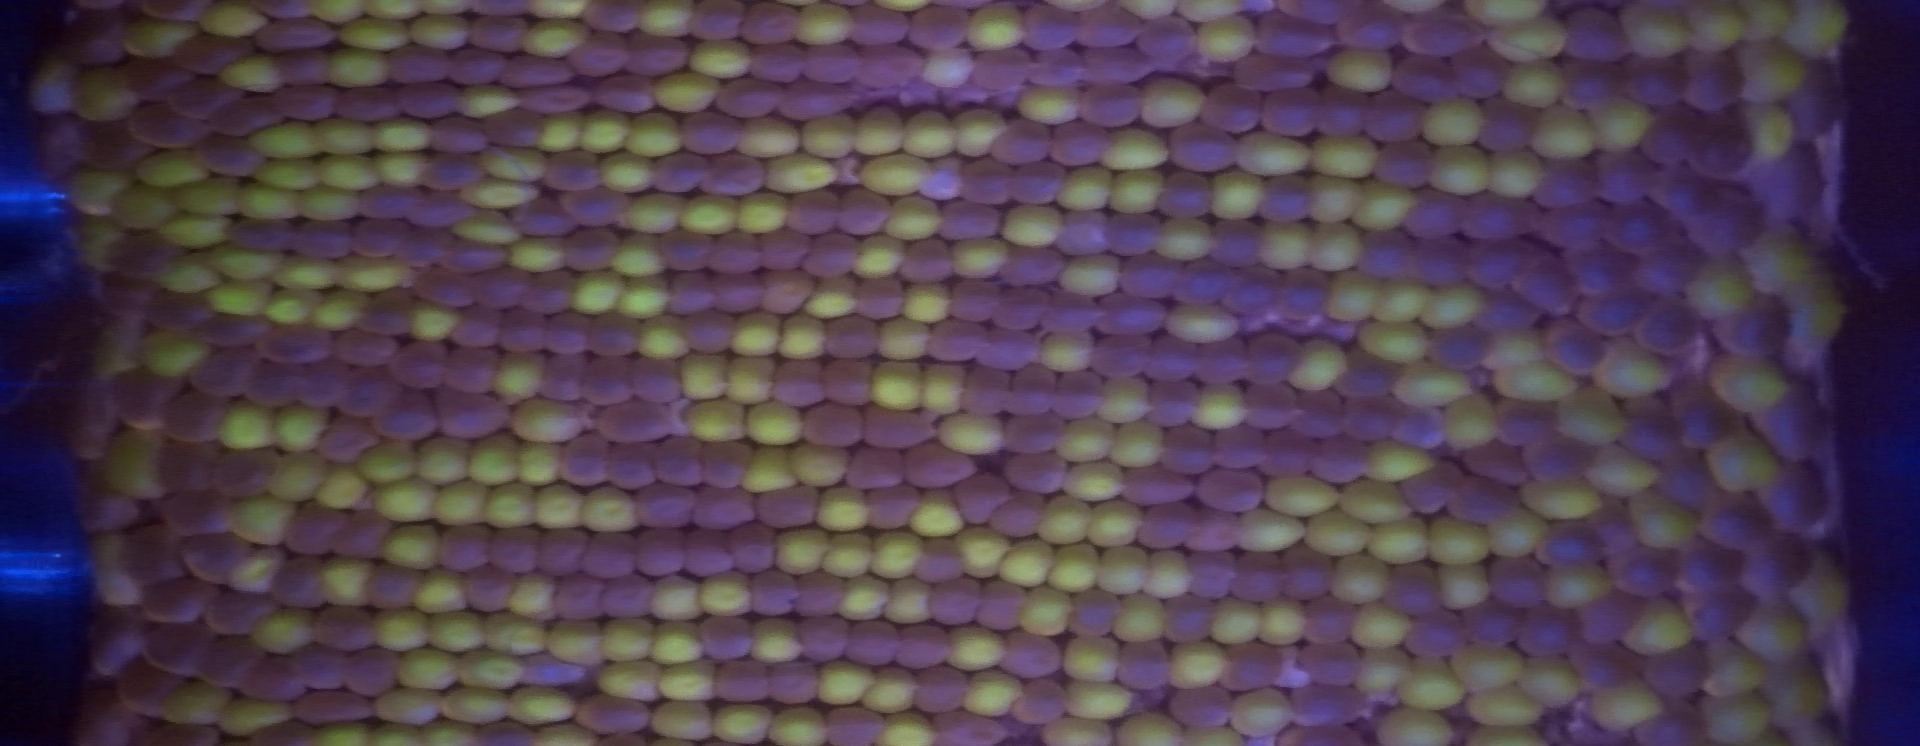fluorescent: (1782, 265, 1840, 364), (99, 428, 167, 500), (1704, 430, 1779, 492), (1760, 660, 1828, 726), (1709, 360, 1795, 412), (1594, 339, 1670, 394), (1736, 33, 1801, 97), (1704, 639, 1771, 701), (1587, 680, 1663, 733), (1513, 478, 1607, 521), (1753, 223, 1811, 292), (138, 330, 217, 380), (65, 65, 135, 121), (1736, 597, 1800, 658), (1589, 96, 1654, 156), (1493, 358, 1573, 404), (62, 164, 135, 216), (1588, 446, 1657, 500), (1686, 263, 1749, 322), (225, 490, 291, 545), (1682, 1, 1750, 55), (1259, 472, 1341, 516), (1626, 603, 1691, 658), (1397, 360, 1468, 410), (1801, 550, 1848, 626), (1633, 492, 1693, 551), (1400, 660, 1467, 712), (1236, 501, 1305, 550), (1455, 647, 1529, 692), (369, 474, 436, 524), (1238, 130, 1310, 176), (1700, 695, 1772, 741), (1489, 20, 1569, 61), (1558, 388, 1616, 445), (1138, 78, 1209, 125), (1499, 55, 1561, 108), (94, 534, 136, 612), (1308, 131, 1378, 178), (1291, 334, 1347, 392), (1521, 652, 1580, 707), (816, 654, 876, 708), (1427, 148, 1495, 195), (1464, 687, 1543, 728), (1326, 47, 1396, 92), (1425, 98, 1488, 148), (1622, 7, 1685, 58), (962, 668, 1026, 717), (1325, 554, 1389, 603), (1014, 82, 1082, 127), (1526, 110, 1594, 156), (269, 450, 327, 503), (1742, 98, 1796, 156), (1356, 320, 1428, 363), (516, 399, 585, 443), (1365, 440, 1435, 484), (249, 118, 320, 160), (764, 149, 835, 192), (480, 612, 549, 657), (1164, 642, 1229, 688), (593, 661, 665, 703), (1164, 303, 1240, 342), (121, 20, 195, 60), (733, 116, 801, 160), (1018, 584, 1073, 638), (1229, 688, 1289, 737), (1790, 2, 1850, 51), (547, 616, 609, 664), (658, 70, 720, 116), (1445, 392, 1499, 446), (1195, 381, 1251, 432), (458, 646, 525, 688), (1053, 252, 1120, 295), (326, 44, 389, 89), (708, 699, 771, 745), (209, 247, 285, 285), (211, 401, 269, 450), (414, 439, 473, 488), (948, 624, 1007, 673), (902, 110, 961, 159), (860, 153, 931, 194), (969, 2, 1029, 50), (1067, 680, 1135, 722), (791, 443, 852, 490), (1036, 492, 1090, 545), (869, 358, 924, 409), (1325, 269, 1380, 321), (1488, 148, 1543, 200), (580, 483, 638, 532), (468, 437, 525, 486), (255, 606, 312, 655), (1304, 220, 1362, 269), (1373, 709, 1449, 746), (162, 680, 227, 723), (1000, 206, 1065, 249), (1106, 124, 1167, 169), (1370, 521, 1431, 566), (507, 684, 576, 724), (1307, 170, 1360, 222), (749, 616, 804, 666), (1256, 222, 1311, 272), (742, 442, 798, 491), (1359, 181, 1416, 230), (1064, 632, 1122, 680), (339, 255, 409, 294), (273, 256, 343, 295), (697, 570, 756, 616), (1487, 512, 1545, 559), (880, 197, 944, 240), (609, 230, 669, 276), (684, 39, 749, 81), (911, 488, 966, 537), (796, 4, 857, 48), (1430, 514, 1485, 563), (1305, 514, 1374, 554), (1201, 16, 1259, 62), (940, 412, 1003, 454), (441, 682, 507, 723), (1419, 281, 1478, 326), (1351, 606, 1409, 652), (136, 149, 206, 187), (533, 481, 584, 533), (1547, 560, 1607, 604), (316, 556, 369, 606), (478, 145, 545, 184), (877, 315, 931, 364), (819, 533, 874, 581), (1101, 541, 1149, 597), (683, 401, 744, 443), (1152, 216, 1213, 258), (432, 480, 489, 527), (816, 490, 872, 537), (380, 528, 442, 570), (746, 397, 804, 441), (765, 702, 824, 746), (775, 522, 825, 573), (1113, 595, 1164, 646), (1256, 597, 1309, 646), (115, 190, 179, 230), (1056, 167, 1116, 209), (623, 111, 678, 158), (397, 648, 458, 690), (238, 183, 302, 222), (567, 271, 624, 315), (1037, 331, 1095, 375), (853, 107, 905, 156), (959, 528, 1010, 577), (1213, 169, 1262, 220), (648, 575, 700, 622), (271, 408, 327, 452), (370, 609, 426, 653), (650, 698, 711, 739), (317, 116, 375, 159), (681, 350, 730, 401), (733, 310, 782, 360), (362, 441, 415, 488), (634, 316, 687, 363), (1113, 420, 1166, 467), (407, 13, 469, 53), (801, 114, 860, 156), (1117, 710, 1185, 746), (456, 211, 522, 247), (1060, 418, 1116, 462), (680, 192, 740, 233), (459, 80, 523, 118), (429, 612, 485, 655), (317, 461, 366, 510), (1063, 463, 1124, 502), (1002, 539, 1052, 587), (1142, 550, 1193, 598), (658, 664, 715, 706), (373, 687, 443, 722), (852, 235, 905, 281), (309, 292, 367, 332), (735, 191, 789, 235), (371, 118, 433, 156), (834, 576, 889, 619), (338, 15, 407, 49), (200, 5, 266, 40), (803, 277, 860, 318), (724, 356, 773, 404), (958, 110, 1005, 159), (415, 570, 467, 615), (862, 670, 913, 715), (922, 359, 962, 416), (463, 179, 539, 209), (224, 548, 277, 592), (781, 316, 834, 360), (211, 279, 276, 315), (222, 701, 287, 736), (524, 20, 587, 56), (493, 352, 540, 401), (1049, 545, 1100, 590), (602, 617, 653, 663), (1376, 278, 1427, 323), (299, 183, 358, 220), (253, 158, 321, 191), (613, 278, 669, 318), (580, 109, 628, 156), (509, 570, 555, 619), (1356, 646, 1404, 691), (1740, 2, 1790, 47), (628, 194, 684, 233), (220, 56, 280, 93), (599, 151, 651, 192), (951, 236, 1004, 278), (1438, 567, 1490, 609), (162, 216, 230, 247), (181, 178, 240, 214), (486, 485, 535, 529), (1104, 379, 1153, 423), (1483, 330, 1542, 366), (650, 620, 700, 663), (900, 281, 951, 322), (1043, 713, 1113, 744), (264, 290, 320, 328), (1093, 499, 1135, 549), (93, 330, 133, 381), (409, 301, 457, 344), (376, 149, 430, 187), (320, 156, 381, 189), (920, 53, 975, 89), (507, 236, 564, 271), (876, 528, 915, 578), (879, 714, 940, 746), (1111, 176, 1160, 216), (1207, 605, 1258, 643), (539, 111, 584, 153), (885, 579, 932, 620), (160, 260, 217, 293), (519, 441, 560, 484), (639, 1, 687, 37)
nonfluorescent: (1667, 383, 1738, 457), (1751, 152, 1824, 217), (1681, 186, 1752, 252), (102, 369, 178, 430), (1764, 382, 1822, 457), (1771, 459, 1826, 537), (1458, 192, 1534, 247), (1402, 2, 1479, 56), (1682, 51, 1746, 115), (1515, 249, 1575, 316), (143, 621, 216, 676), (1788, 58, 1836, 141), (1695, 111, 1756, 176), (436, 386, 511, 439), (1609, 543, 1679, 599), (1618, 394, 1679, 457), (160, 439, 222, 500), (1520, 601, 1582, 661), (187, 352, 263, 401), (1685, 589, 1757, 641), (211, 448, 278, 503), (151, 490, 228, 538), (1644, 643, 1708, 701), (1631, 249, 1703, 299), (1747, 538, 1809, 597), (73, 478, 137, 534), (1540, 200, 1605, 255), (1524, 439, 1596, 489), (1171, 122, 1243, 171), (268, 552, 327, 612), (1381, 559, 1440, 619), (84, 121, 154, 171), (1556, 58, 1622, 110), (1728, 296, 1787, 355), (1473, 98, 1534, 154), (1596, 154, 1658, 209), (1407, 236, 1472, 289), (1464, 240, 1531, 292), (1566, 639, 1637, 687), (1139, 15, 1195, 75), (1643, 107, 1700, 167), (1498, 394, 1561, 447), (576, 695, 651, 739), (1575, 240, 1632, 298), (1643, 296, 1703, 352), (125, 62, 212, 100), (62, 15, 130, 64), (1446, 477, 1513, 526), (1675, 541, 1742, 590), (1629, 48, 1682, 109), (1537, 320, 1605, 367), (1567, 11, 1631, 62), (180, 538, 245, 588), (1297, 639, 1362, 690), (1367, 88, 1424, 145), (200, 639, 258, 695), (1097, 287, 1164, 334), (164, 388, 227, 440), (1287, 690, 1374, 726), (860, 407, 932, 451), (1613, 205, 1678, 254), (285, 500, 342, 556), (446, 345, 504, 399), (1236, 50, 1314, 91), (38, 115, 91, 175), (594, 401, 667, 443), (1396, 191, 1458, 241), (591, 69, 659, 115), (1078, 83, 1149, 127), (204, 590, 268, 639), (373, 390, 437, 439), (858, 45, 927, 91), (1370, 145, 1439, 190), (242, 653, 307, 701), (1452, 50, 1512, 102), (268, 323, 338, 367), (1202, 78, 1264, 129), (780, 80, 856, 120), (288, 690, 371, 726), (1250, 12, 1324, 54), (1392, 55, 1455, 104), (1155, 169, 1218, 217), (1070, 48, 1152, 85), (338, 365, 398, 415), (1005, 158, 1065, 208), (1311, 78, 1362, 138), (1056, 119, 1117, 168), (785, 187, 846, 236), (1575, 597, 1636, 646), (715, 78, 785, 121), (251, 356, 305, 412), (1575, 293, 1646, 334), (1491, 554, 1542, 612), (1702, 500, 1767, 545), (253, 16, 336, 51), (387, 341, 449, 387), (802, 403, 864, 450), (133, 107, 203, 148), (1228, 548, 1283, 600), (127, 523, 178, 581), (1258, 88, 1315, 138), (1540, 159, 1598, 209), (582, 530, 640, 579), (384, 47, 458, 86), (1093, 332, 1152, 381), (1660, 450, 1704, 514), (1074, 10, 1142, 51), (1429, 328, 1498, 370), (1117, 639, 1169, 693), (1182, 550, 1236, 603), (744, 1, 798, 54), (1176, 257, 1229, 310), (904, 445, 970, 488), (359, 565, 421, 610), (989, 122, 1052, 168), (997, 244, 1059, 289), (771, 360, 828, 410), (1229, 269, 1286, 320), (1258, 176, 1314, 227), (516, 650, 585, 691), (560, 431, 609, 489), (1138, 500, 1195, 549), (1314, 436, 1371, 485), (1403, 462, 1461, 511), (137, 581, 204, 622), (675, 110, 736, 156), (849, 440, 904, 490), (1289, 390, 1344, 440), (1344, 394, 1400, 445), (1357, 230, 1412, 281), (413, 265, 475, 309), (1539, 521, 1602, 565), (1118, 255, 1176, 303), (910, 9, 973, 51), (760, 486, 820, 532), (1188, 507, 1242, 557), (1162, 424, 1216, 474), (819, 359, 873, 409), (1251, 330, 1305, 380), (1652, 165, 1706, 216), (1476, 290, 1540, 332), (579, 356, 634, 405), (174, 77, 247, 114), (1118, 469, 1194, 505), (1213, 423, 1270, 470), (1338, 10, 1396, 56), (542, 151, 605, 194), (1258, 434, 1320, 477), (176, 37, 257, 70), (637, 484, 696, 529), (627, 33, 691, 75), (684, 530, 736, 582), (1005, 454, 1065, 499), (1404, 612, 1464, 657), (87, 620, 136, 674), (980, 583, 1029, 637), (804, 230, 858, 279), (694, 488, 756, 530), (699, 153, 764, 194), (838, 190, 894, 236), (975, 47, 1032, 92), (562, 192, 631, 230), (820, 312, 879, 356), (664, 274, 722, 318), (525, 267, 577, 317), (913, 666, 965, 717), (1249, 380, 1300, 430), (1281, 548, 1331, 599), (703, 612, 756, 661), (1056, 366, 1103, 420), (96, 272, 156, 315), (320, 419, 380, 462), (845, 626, 905, 669), (429, 110, 489, 153), (895, 624, 950, 670), (951, 475, 1007, 522), (933, 321, 988, 367), (936, 198, 1003, 236), (1195, 472, 1260, 511), (1220, 646, 1282, 686), (961, 159, 1011, 209), (1145, 333, 1195, 383), (729, 519, 778, 571), (1002, 632, 1060, 675), (1210, 212, 1258, 265), (1400, 401, 1447, 453), (1462, 600, 1515, 648), (344, 652, 399, 697), (298, 355, 343, 410), (1041, 290, 1104, 330), (1195, 334, 1251, 379), (1466, 443, 1527, 484), (989, 497, 1047, 540), (332, 510, 382, 559), (694, 440, 744, 489), (518, 85, 595, 116), (1594, 503, 1640, 557), (936, 710, 1004, 746), (711, 661, 767, 706), (563, 230, 618, 274), (276, 51, 336, 92), (1171, 687, 1234, 725), (332, 85, 396, 122), (332, 325, 393, 364), (366, 289, 415, 338), (1015, 677, 1064, 726), (958, 371, 1007, 420), (932, 575, 980, 625), (475, 265, 527, 311), (495, 304, 546, 350), (534, 530, 585, 577), (396, 85, 465, 119), (315, 608, 373, 648), (795, 571, 849, 615), (1019, 10, 1078, 50), (549, 579, 604, 622), (197, 135, 257, 174), (298, 646, 347, 693), (639, 529, 688, 577), (915, 538, 964, 586), (1166, 590, 1213, 639), (509, 203, 573, 240), (1056, 209, 1104, 257), (654, 436, 699, 488), (1010, 363, 1056, 414), (707, 230, 759, 274), (795, 617, 849, 660), (576, 31, 629, 73), (424, 153, 482, 192), (747, 572, 795, 620), (1303, 600, 1351, 648), (448, 45, 504, 86), (26, 65, 76, 110), (116, 664, 167, 709), (604, 446, 654, 491), (904, 240, 954, 285), (356, 187, 420, 223), (601, 572, 654, 615), (1104, 214, 1160, 255), (66, 414, 115, 459), (546, 314, 595, 359), (1071, 592, 1120, 637), (447, 244, 509, 279), (440, 526, 490, 570), (754, 43, 804, 87), (485, 107, 541, 146), (276, 86, 336, 122), (804, 45, 864, 82), (760, 229, 808, 274), (715, 276, 770, 315), (765, 274, 814, 318), (662, 230, 711, 274), (983, 326, 1032, 370), (1336, 360, 1395, 397), (683, 310, 735, 352), (831, 707, 885, 746), (851, 281, 905, 320), (399, 224, 446, 269), (542, 354, 588, 401), (201, 314, 269, 344), (464, 568, 513, 611), (869, 485, 920, 527), (470, 16, 529, 51), (594, 307, 634, 359), (291, 220, 354, 254), (1003, 416, 1065, 450), (407, 190, 467, 224), (653, 153, 700, 196), (953, 278, 996, 326), (1286, 269, 1324, 323), (156, 292, 207, 331), (454, 310, 506, 349), (500, 58, 574, 85), (636, 358, 680, 403), (769, 660, 816, 703), (353, 217, 400, 258), (691, 1, 741, 40), (1025, 50, 1076, 88), (492, 529, 535, 575), (1147, 383, 1195, 424), (227, 222, 291, 251), (996, 288, 1041, 330), (853, 7, 907, 42), (216, 100, 276, 129), (582, 1, 639, 29)
